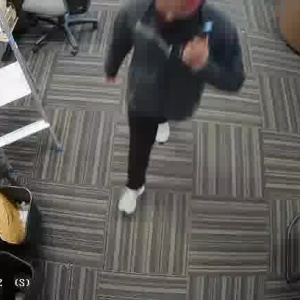person: (109, 0, 238, 222)
